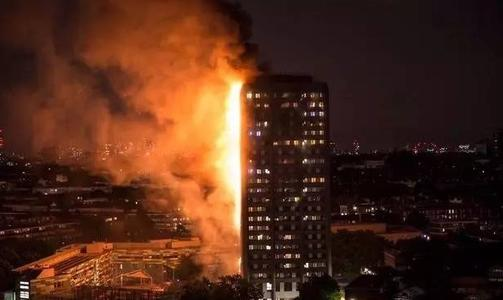fire: (214, 77, 259, 237)
smoke: (12, 12, 199, 200)
